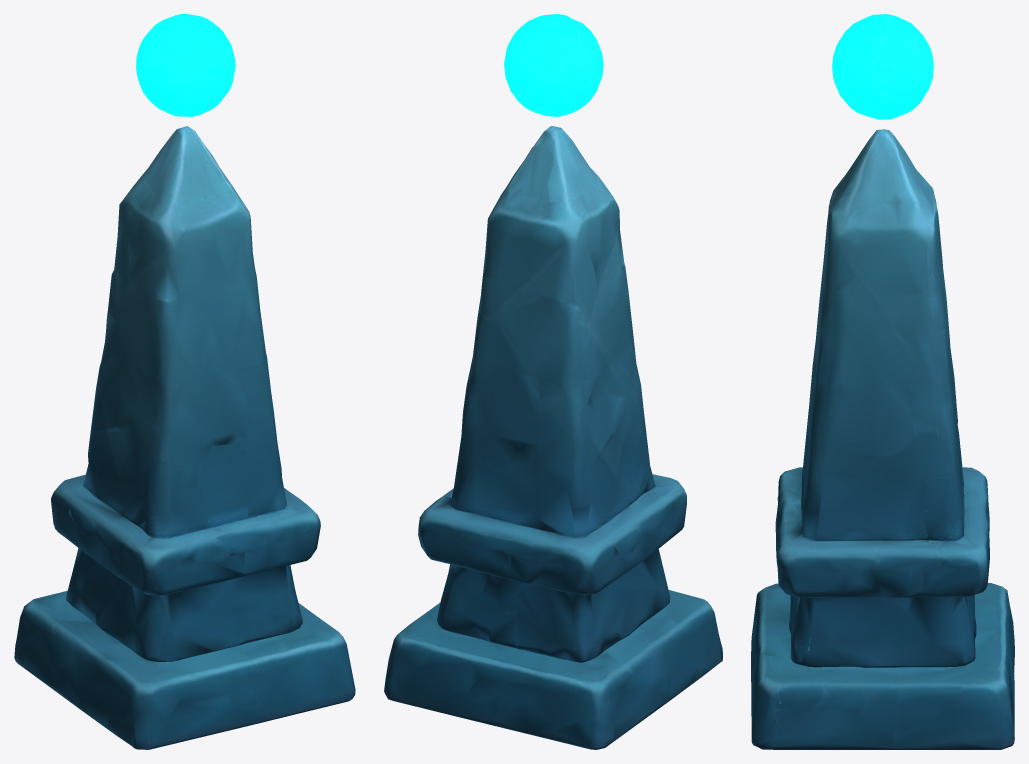
File: obelisque.glb
3 views of the same model, side by side, from view 1: azimuth 30°, elevation 25°; view 2: azimuth 150°, elevation 25°; view 3: azimuth 270°, elevation 25° (orthographic). The views are drawn at different scales.
Visible parts, largest first — view 1: mesh_node; view 2: mesh_node; view 3: mesh_node.
Part boxes in pixels (<box>): mesh_node: <box>14,14,355,749</box>; mesh_node: <box>384,14,722,749</box>; mesh_node: <box>751,14,1014,749</box>.
Size of the model in its own units: 0.6715 by 1.9 by 0.6705.
1 material, 1 textured.
